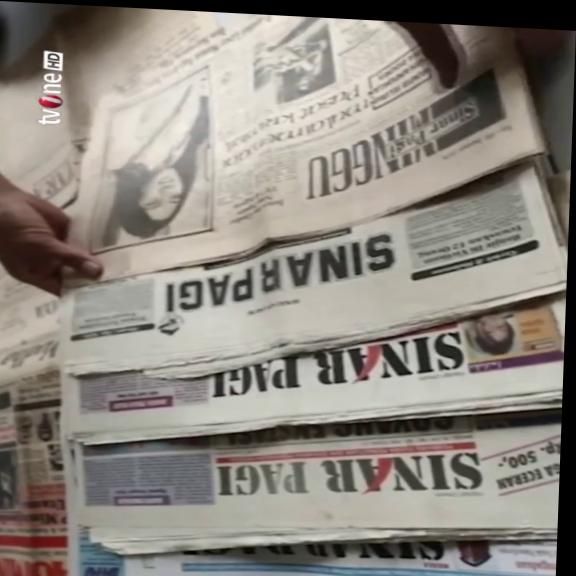Kertas: (63, 8, 557, 302), (76, 510, 550, 576)
